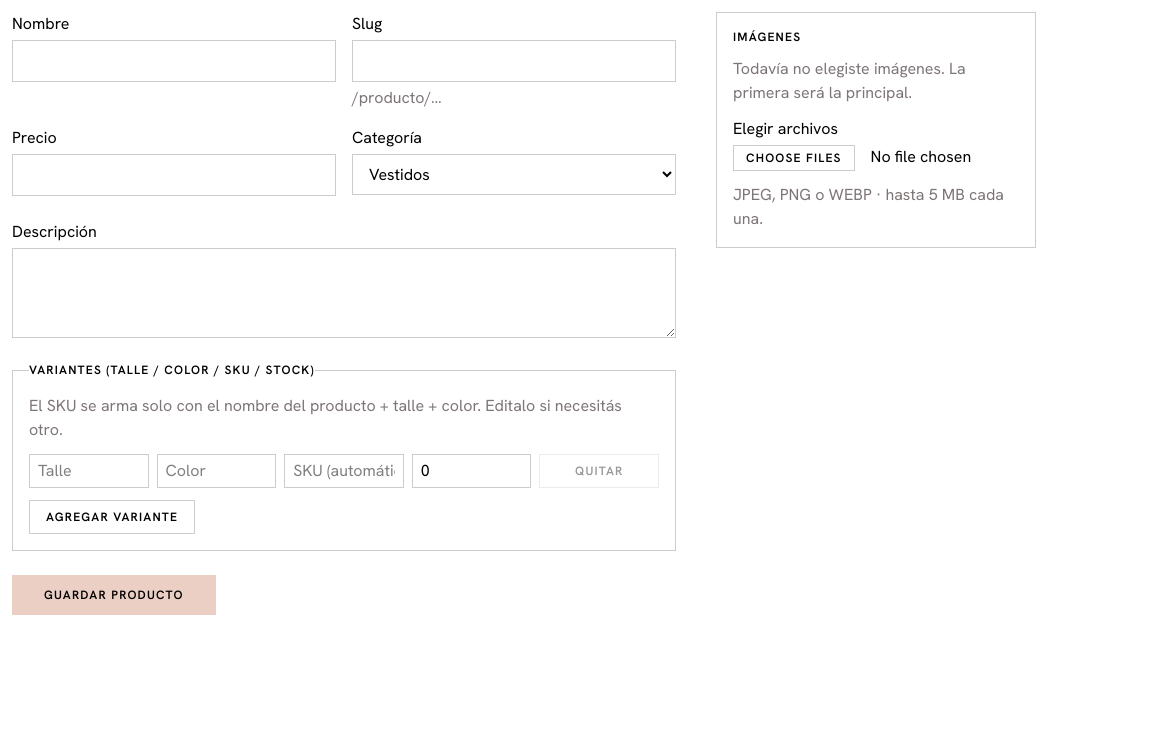
Test case: NewProductForm SKU auto-fill › derives the SKU from the product name, size and color as they are typed
Type "Vestido Roma" into the field labelled "Nombre" at (174,61), box [12,40,336,82]
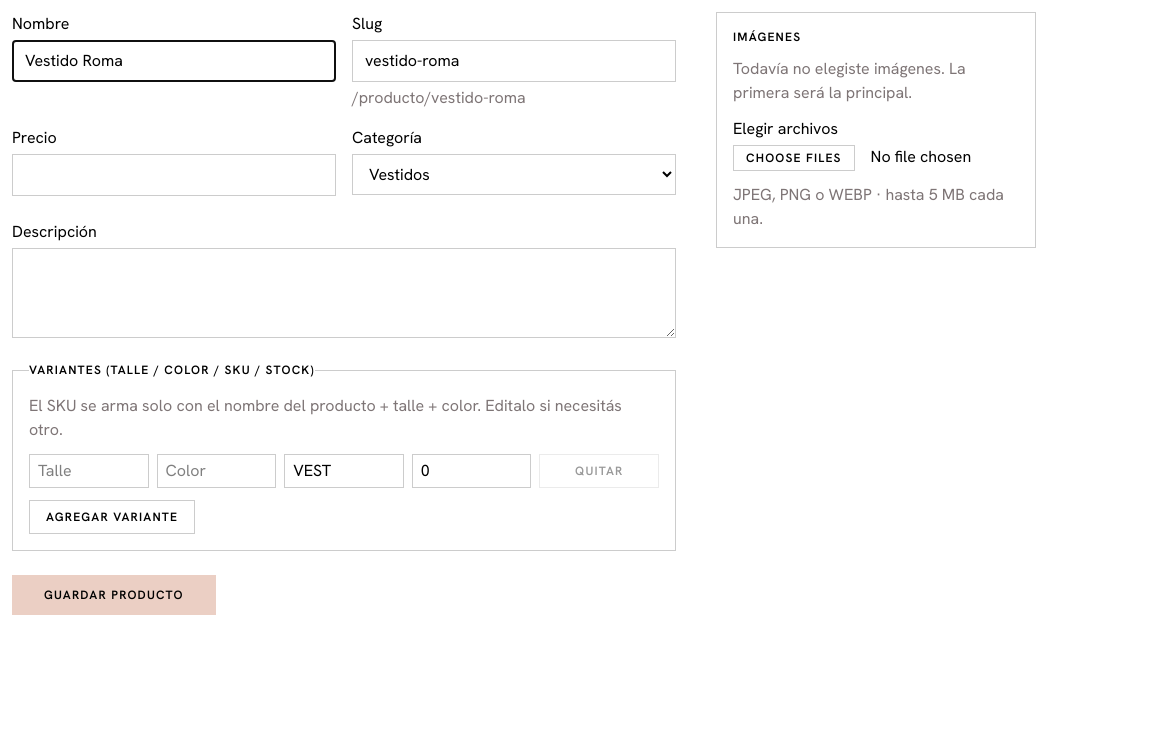
Type "S" into the field with placeholder "Talle" at (89,471), box [29,454,149,488]
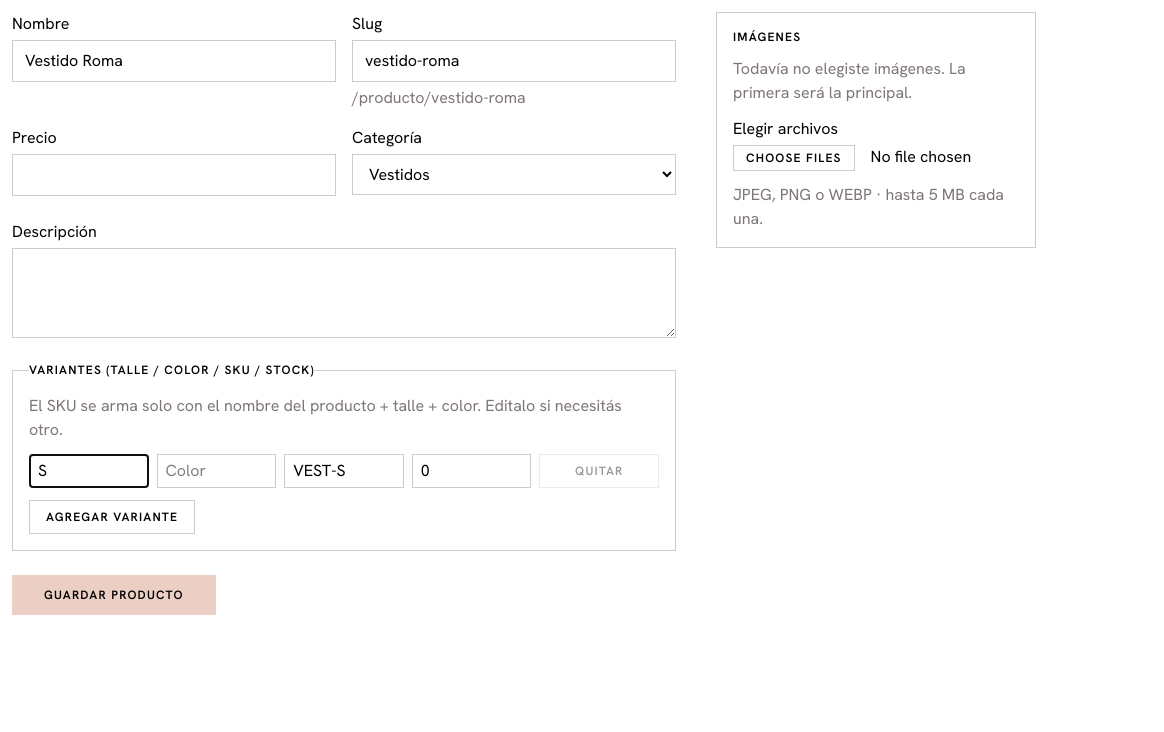
Type "Negro" into the field with placeholder "Color" at (216,471), box [157,454,276,488]
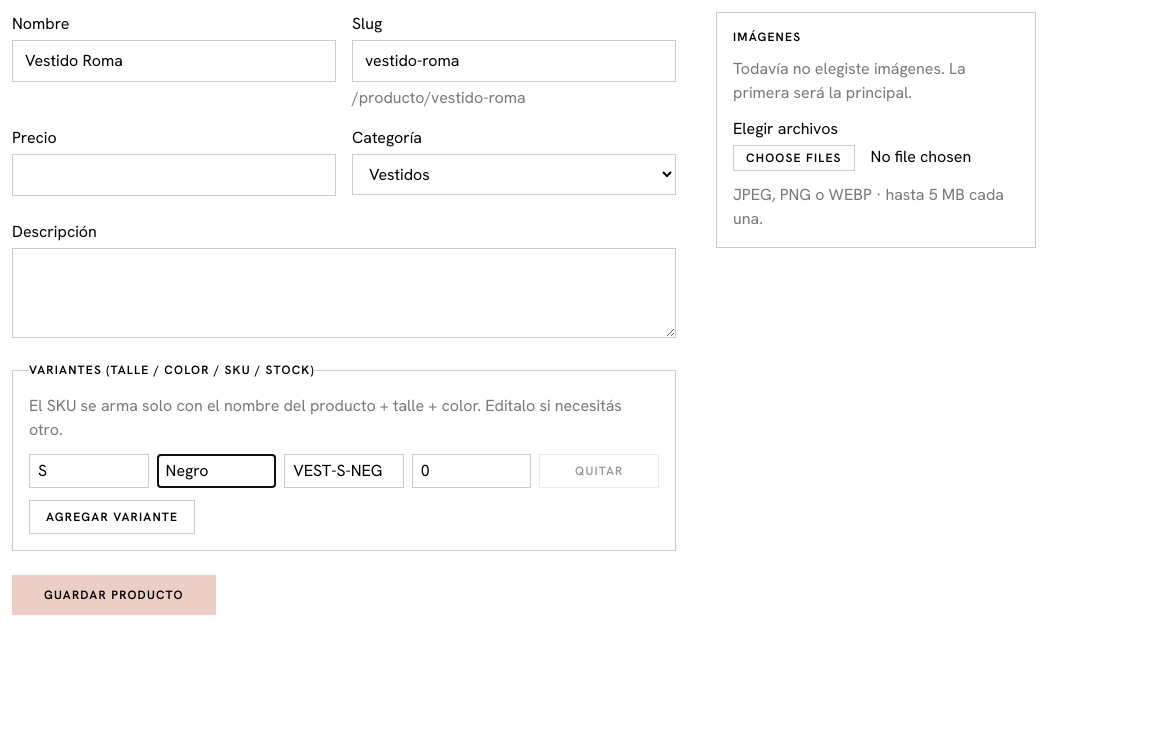
expect the 3rd field with placeholder "SKU (automático)" holds "VEST-S-NEG": met, box [284,454,404,488]
